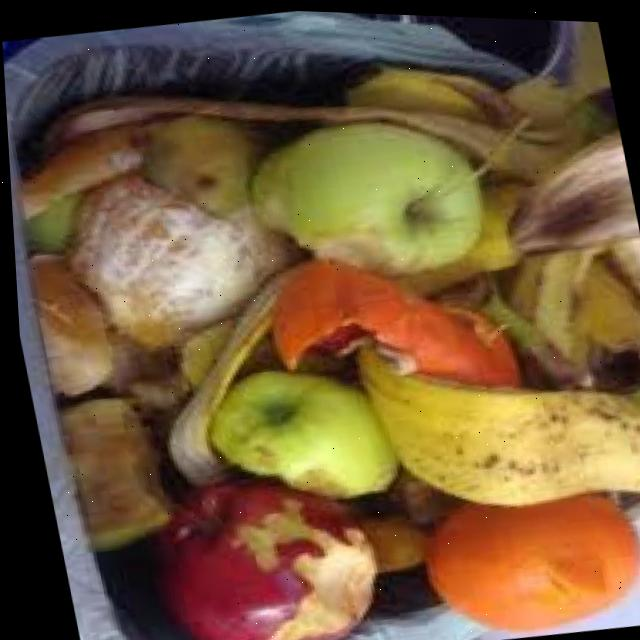Wet: (0, 0, 640, 640), (88, 328, 437, 640), (265, 70, 538, 300)
